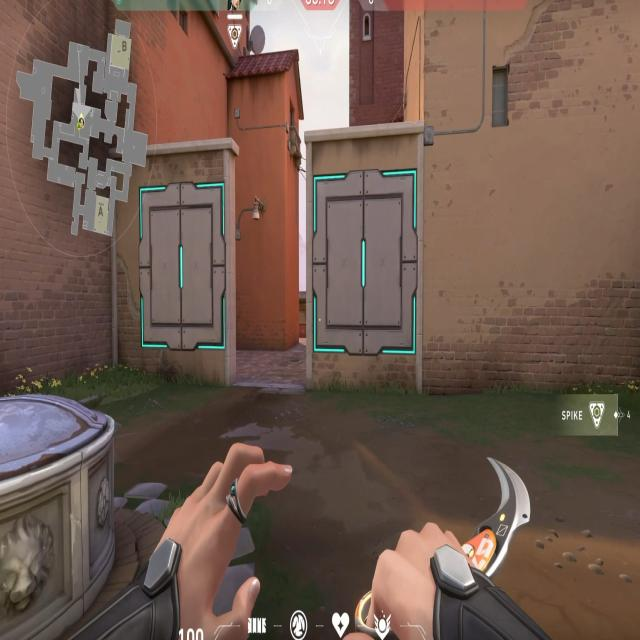Mid_Wall: (308, 163, 421, 370), (136, 178, 230, 358)
